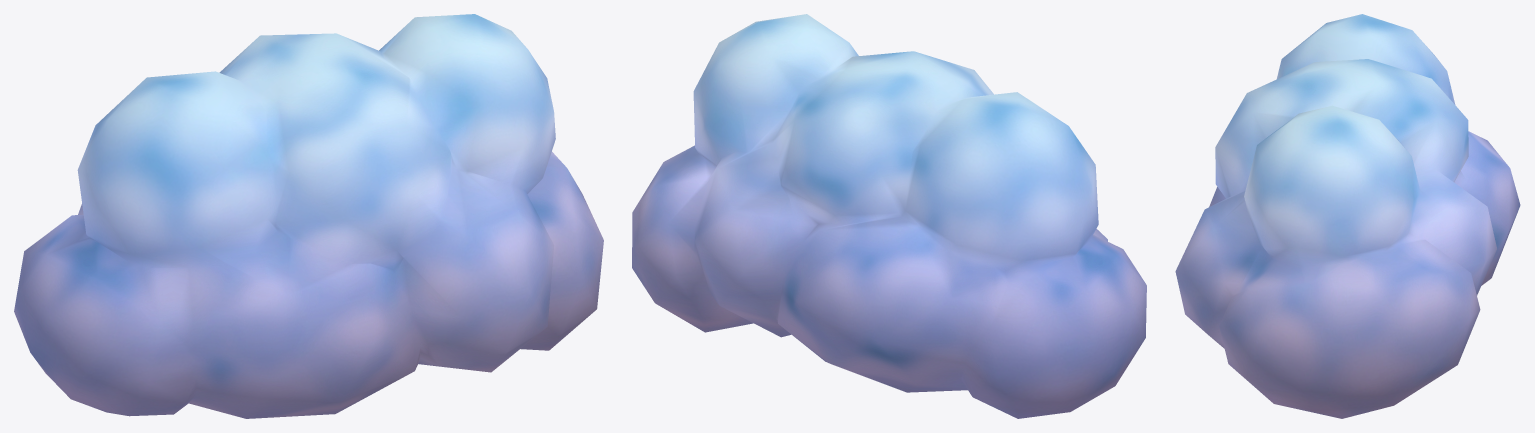
File: cloud.glb
3 renders of one model, left to right at view 1: azimuth 30°, elevation 25°; view 2: azimuth 150°, elevation 25°; view 3: azimuth 270°, elevation 25°, orthographic. The views are drawn at different scales.
Visible parts, largest first — view 1: Icosphere 2; view 2: Icosphere 2; view 3: Icosphere 2.
Boxes of the visible parts, <box> form: Icosphere 2: <box>14,14,603,418</box>; Icosphere 2: <box>632,14,1146,418</box>; Icosphere 2: <box>1175,14,1520,418</box>.
Size of the model in its own units: 9.74 by 6.02 by 6.7.
1 material, 1 textured.
